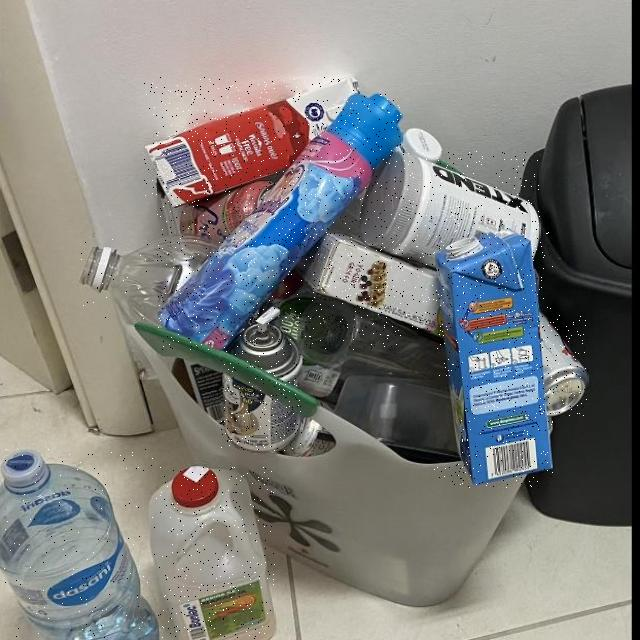metal: (222, 376, 302, 452), (222, 307, 301, 383), (180, 181, 275, 244), (539, 312, 588, 417)
paper: (435, 231, 553, 488), (144, 78, 359, 207), (293, 234, 439, 332)
plastic: (157, 94, 402, 350), (0, 450, 159, 640), (147, 466, 275, 640), (360, 151, 540, 269), (80, 235, 223, 327), (333, 376, 461, 464)
